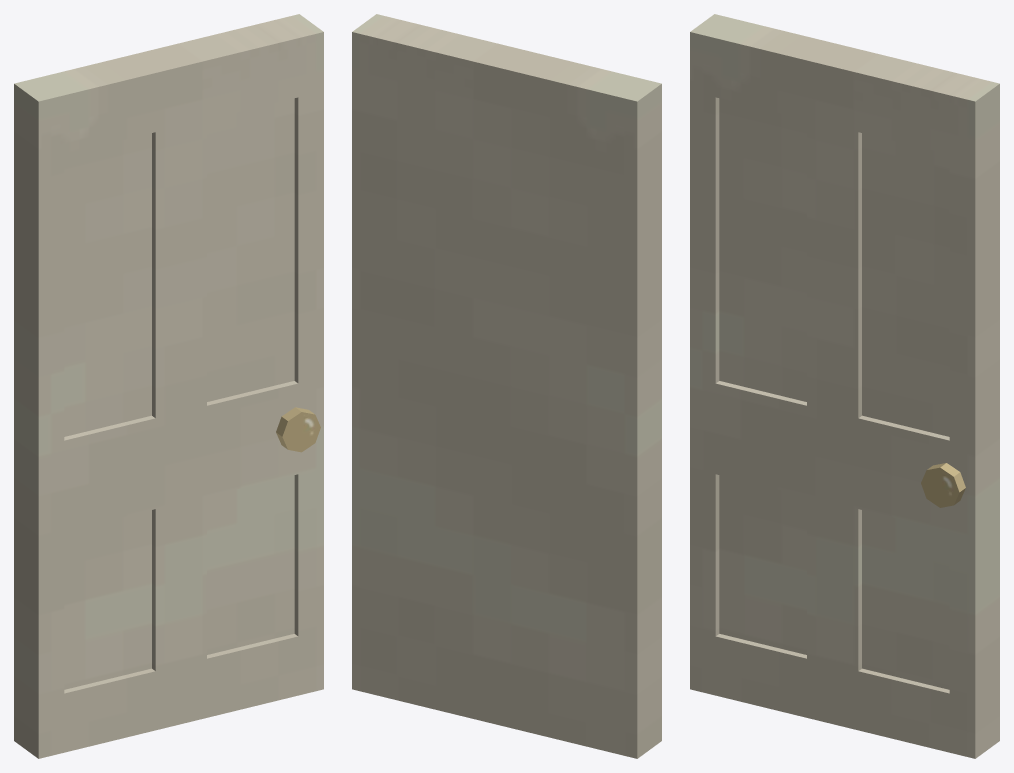
Rendered from FV_Door1.glb.
The picture shows the model from 3 angles, left to right: view 1: azimuth 30°, elevation 25°; view 2: azimuth 150°, elevation 25°; view 3: azimuth 330°, elevation 25°; orthographic projection.
Parts seen in each view (by area): view 1: Door; view 2: Door; view 3: Door.
Part boxes in pixels (box(x1,y1,x2,y2)): Door: box(14, 14, 323, 758); Door: box(352, 14, 661, 758); Door: box(690, 14, 999, 758).
Bounding box in the file's own units: 3.04 × 6.68 × 0.5717.
1 material, 1 textured.
